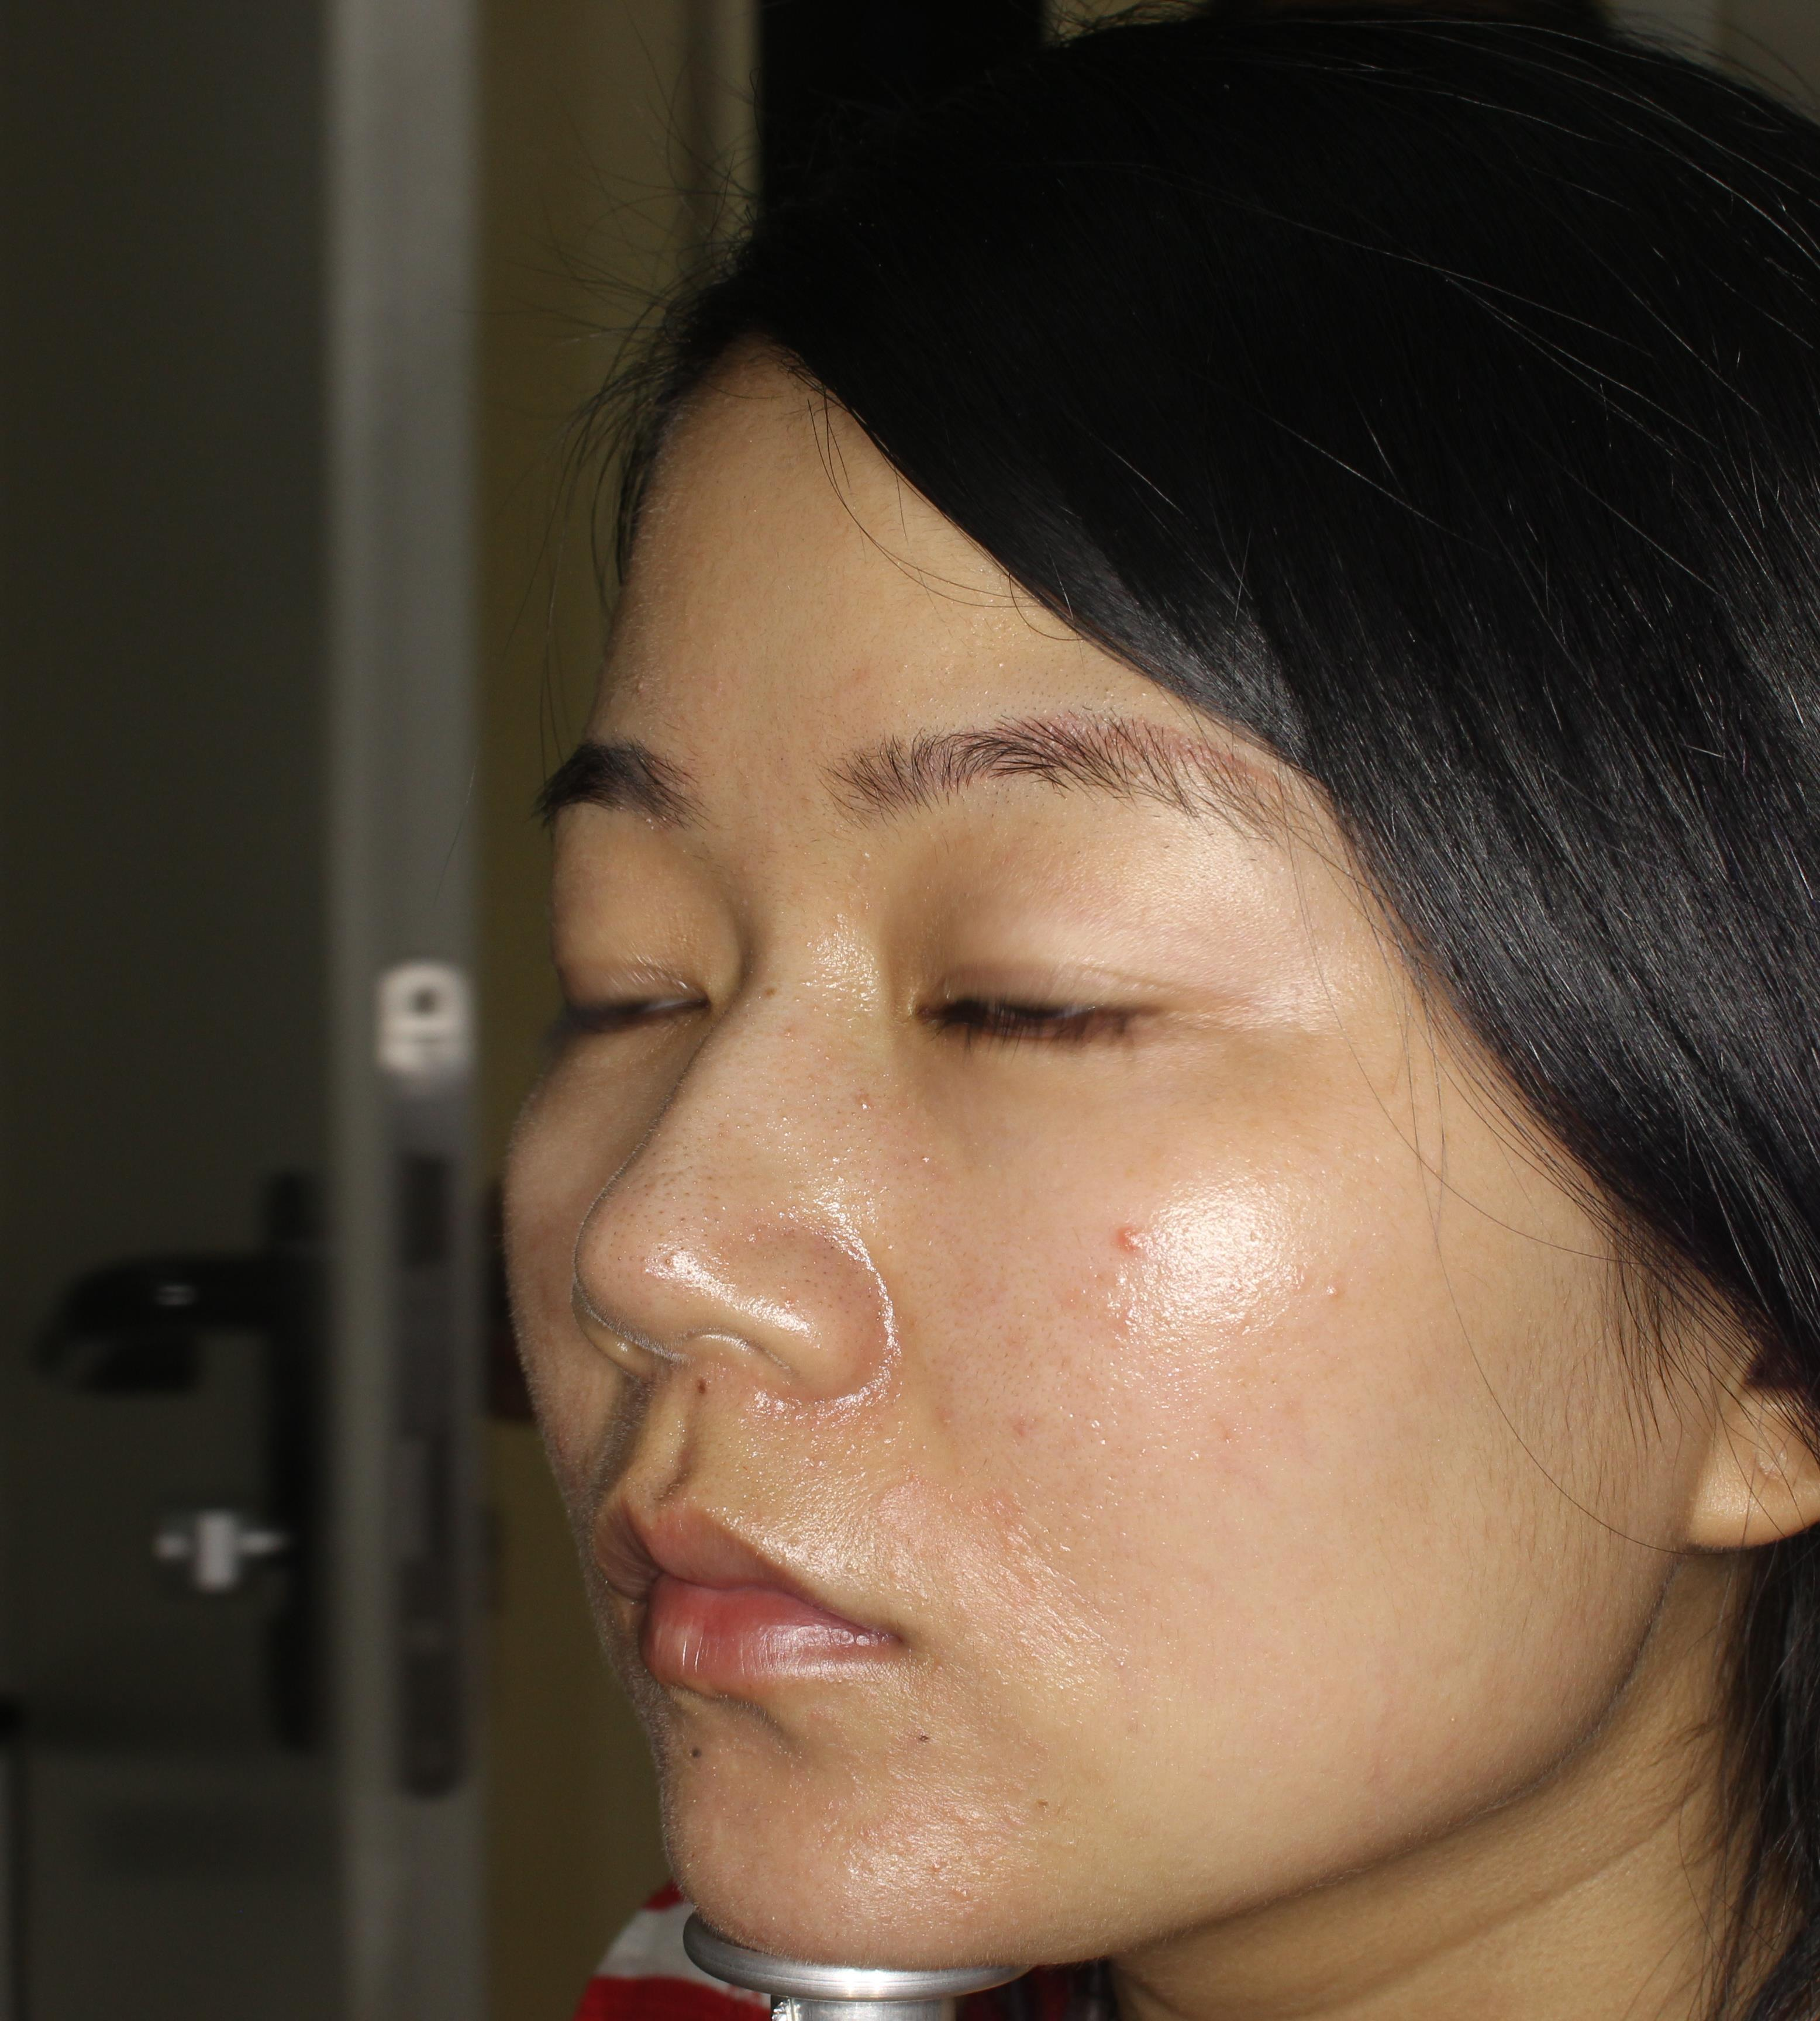fore: (1082, 1185, 1152, 1289)
